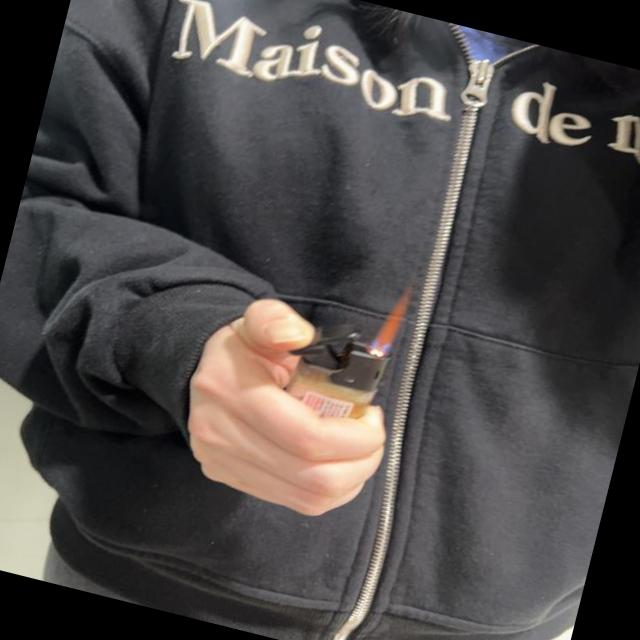Fire: (371, 279, 412, 357)
